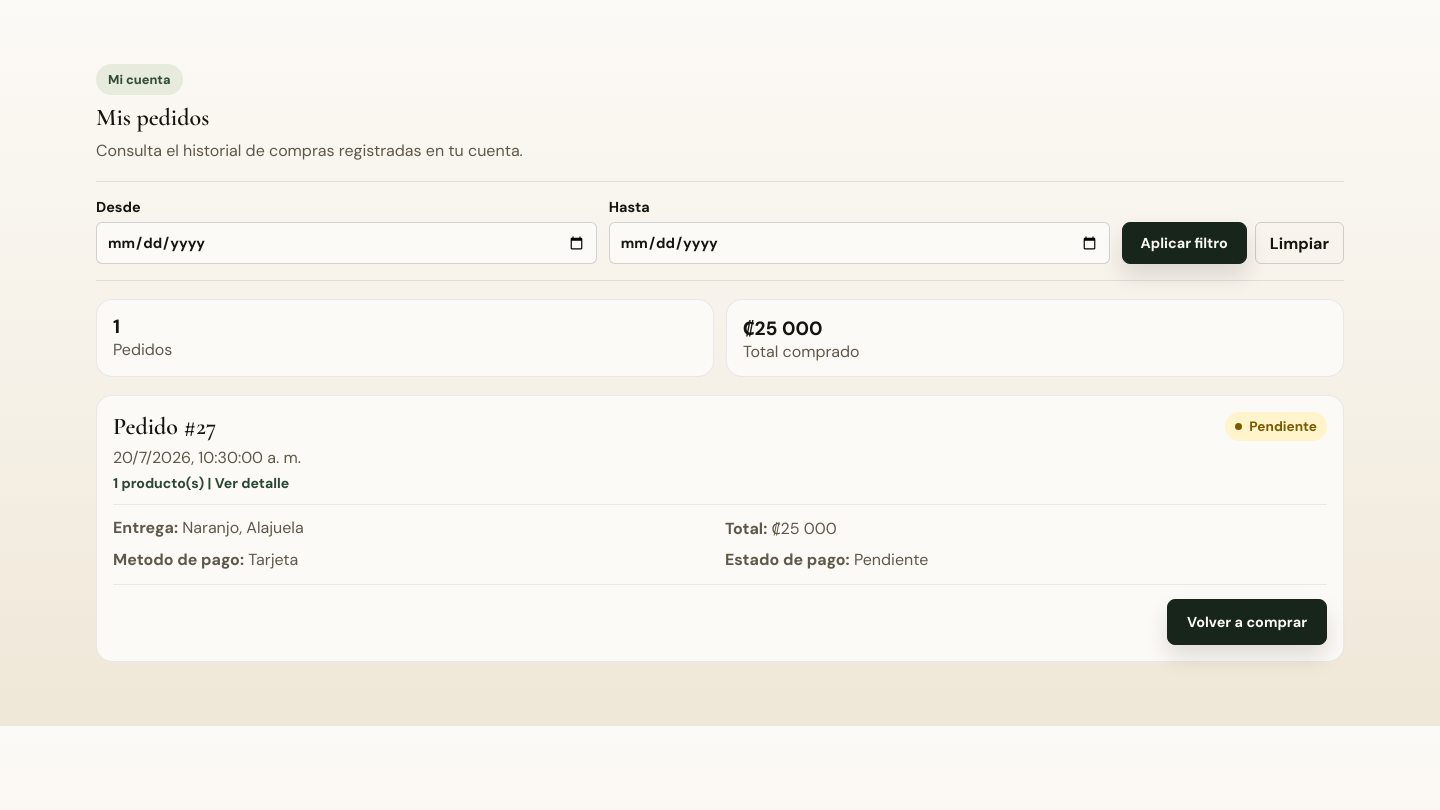
Test: shows the purchased products when the order is opened
expect the text "Maceta" is not shown: met
Click the button "Pedido #27" at (155, 426), box [113,412,1327,492]
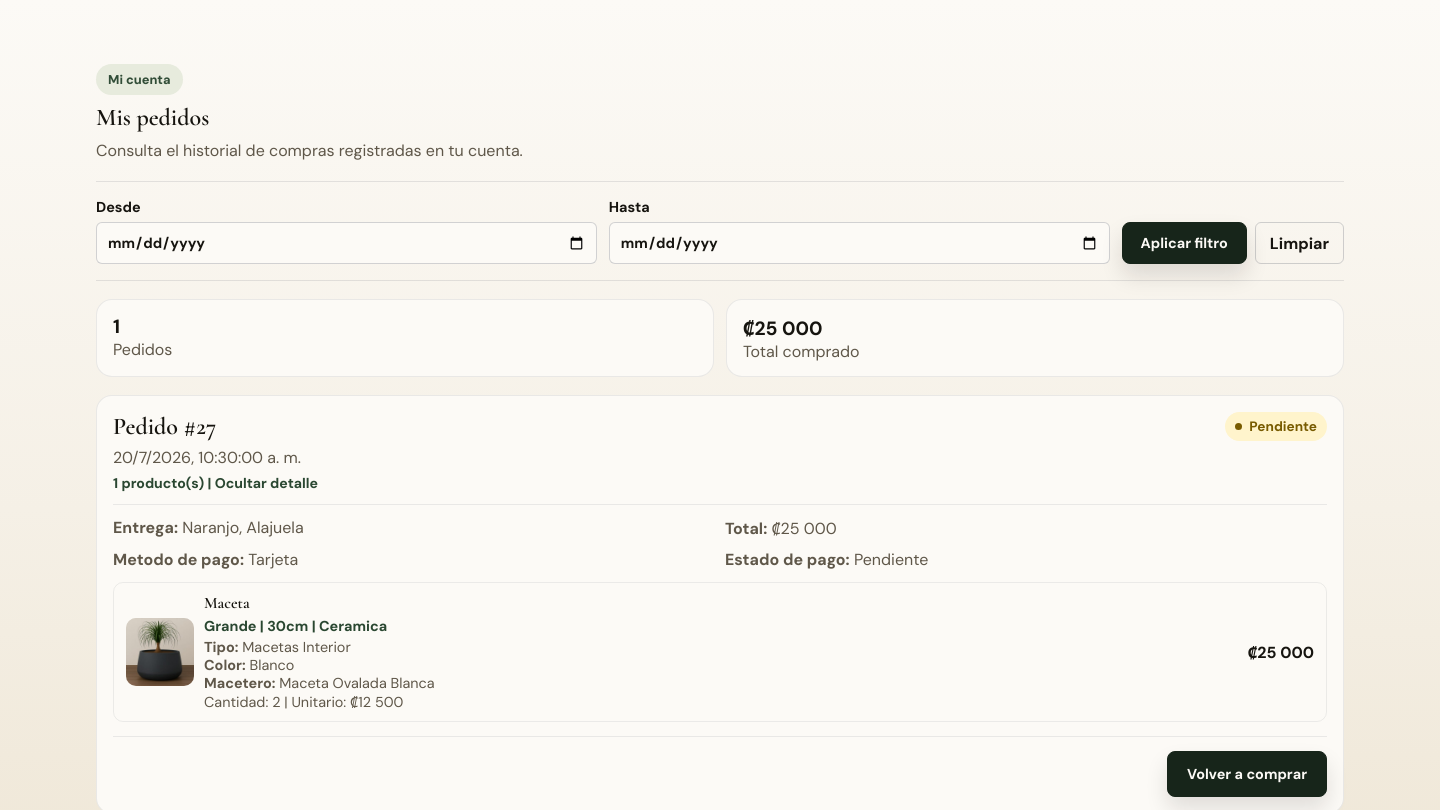
expect the heading "Maceta" is shown: met, box [204,593,250,613]
expect the picture with alt text "Maceta" is shown: met, box [126,618,194,686]
expect the text "Macetas Interior" is shown: met, box [242,638,351,656]
